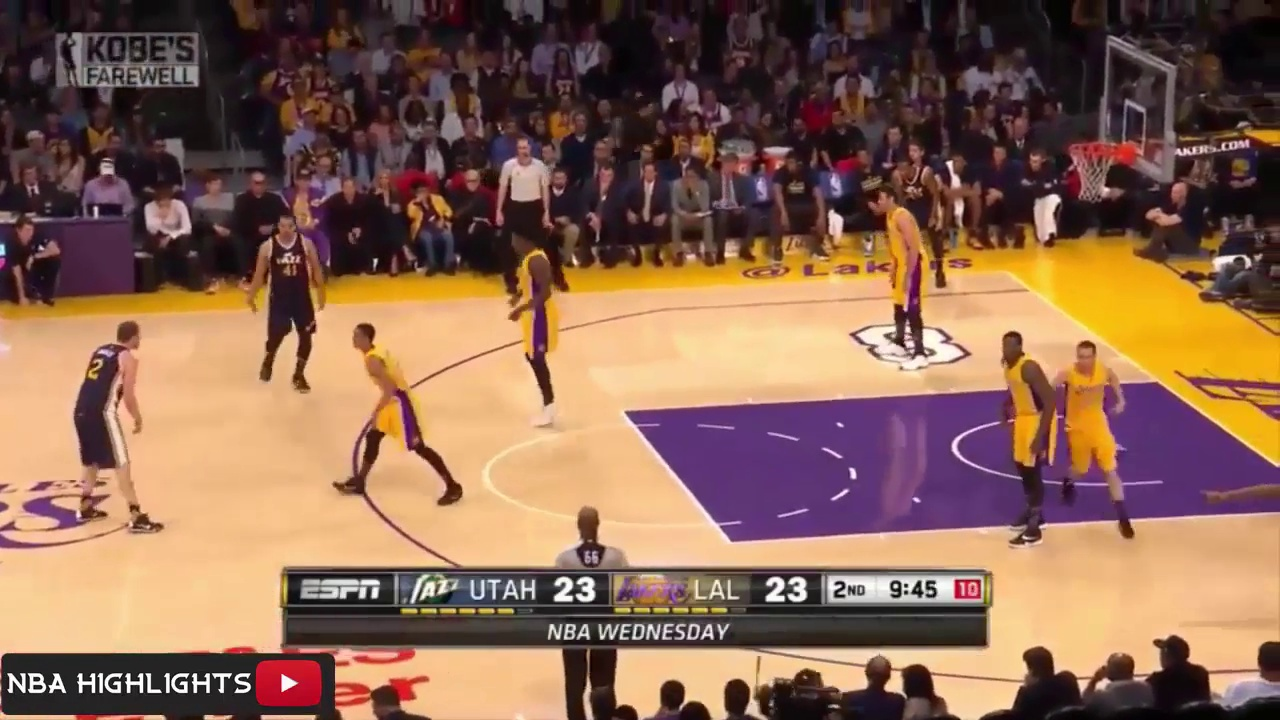jazz: (74, 312, 161, 527), (243, 211, 330, 394), (895, 155, 952, 285)
lakers: (325, 320, 462, 506), (1054, 334, 1141, 539), (498, 228, 566, 435), (992, 328, 1052, 550), (870, 192, 934, 371)
